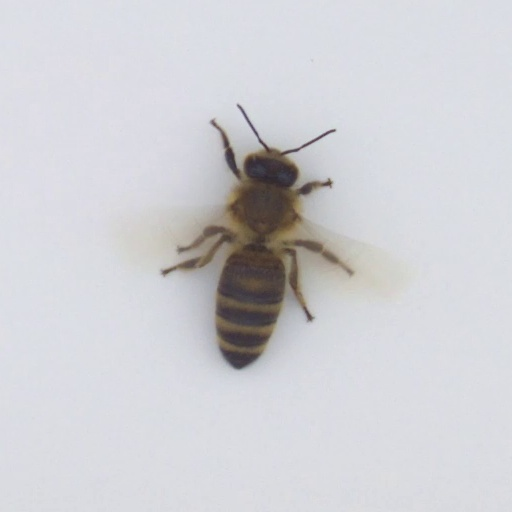Bee: (199, 136, 306, 381)
Thorax: (229, 178, 297, 240)
